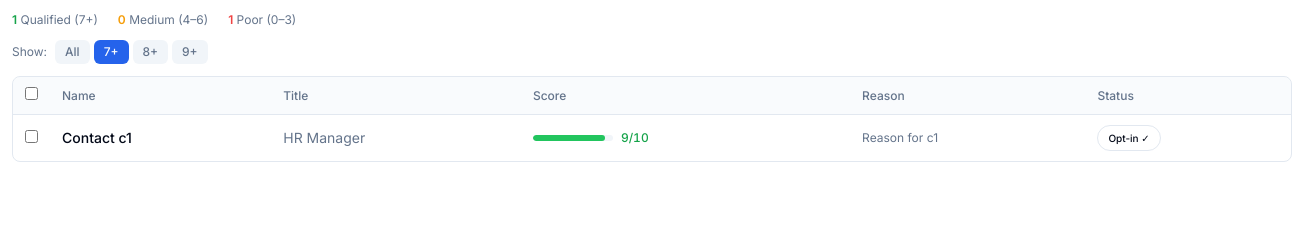
Test case: RankResultsPanel › threshold filter › shows all contacts when All is selected
What coordinates should you click on to do the following:
click the button "All"
I would click on:
 (72, 52)
Its box is [55,40,90,64].
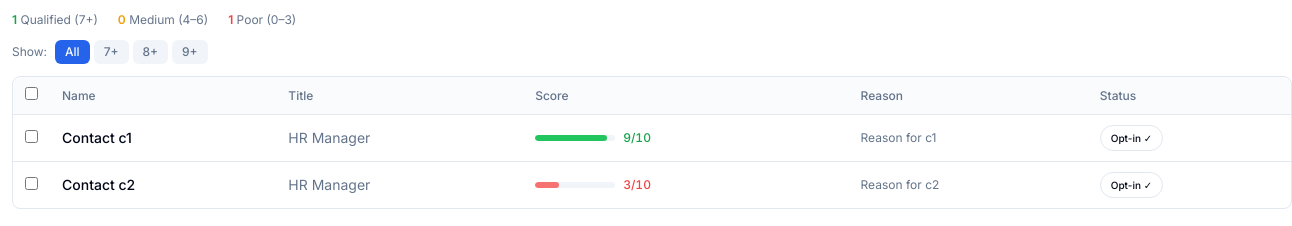
Check: the text "Contact c2" is shown, box [62,176,135,193]
